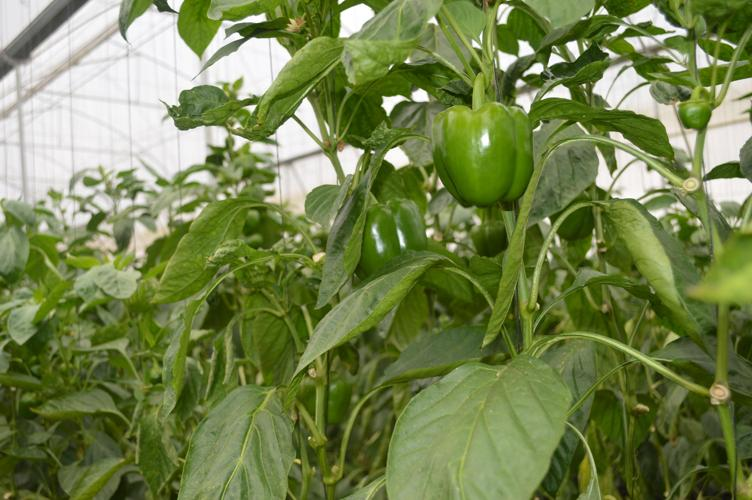BellPepper: (437, 94, 539, 204), (352, 198, 446, 279), (678, 99, 723, 143)
